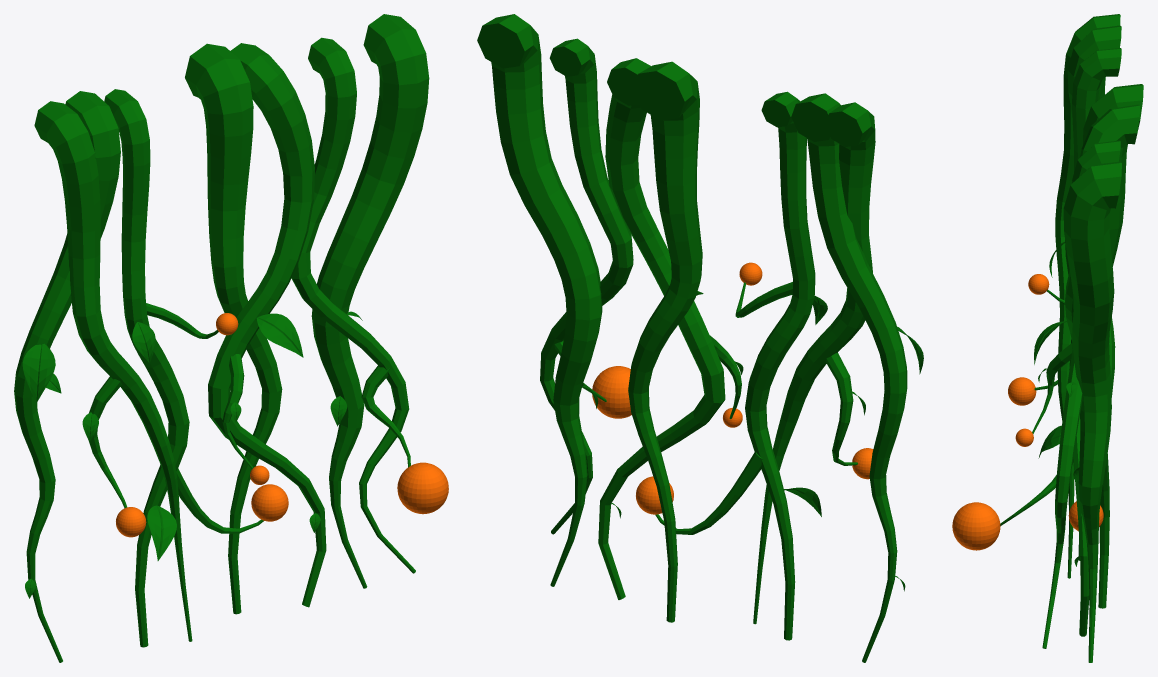
The model's file is Plante T 3_ mesh.fbx.
3 renders of one model, left to right at view 1: azimuth 30°, elevation 25°; view 2: azimuth 150°, elevation 25°; view 3: azimuth 270°, elevation 25°, orthographic. The views are drawn at different scales.
Visible parts, largest first — view 1: Sphère.004; view 2: Sphère.004; view 3: Sphère.004.
Part boxes in pixels (left/top/right/bottom): Sphère.004: left=14, top=14, right=448, bottom=662; Sphère.004: left=477, top=14, right=923, bottom=662; Sphère.004: left=952, top=14, right=1143, bottom=662.
Bounding box in the file's own units: 533 × 691 × 231.
